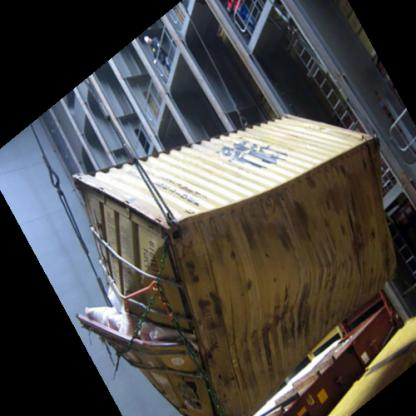Damage: (81, 296, 192, 354)
